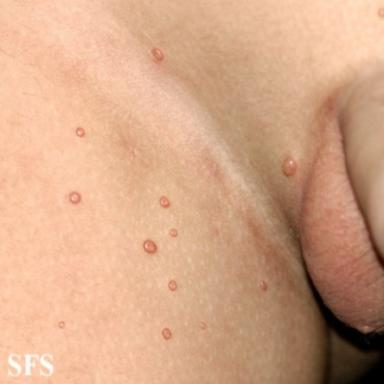Molluscum-Contagiosum: (282, 156, 297, 176), (143, 239, 157, 254), (70, 192, 81, 204), (162, 327, 172, 340), (152, 49, 163, 60), (160, 196, 170, 207), (76, 127, 85, 137), (169, 280, 177, 291), (169, 228, 178, 237), (260, 281, 268, 291), (199, 322, 206, 330), (59, 321, 65, 329)
